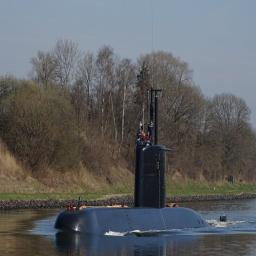submarine: (53, 84, 232, 231)
